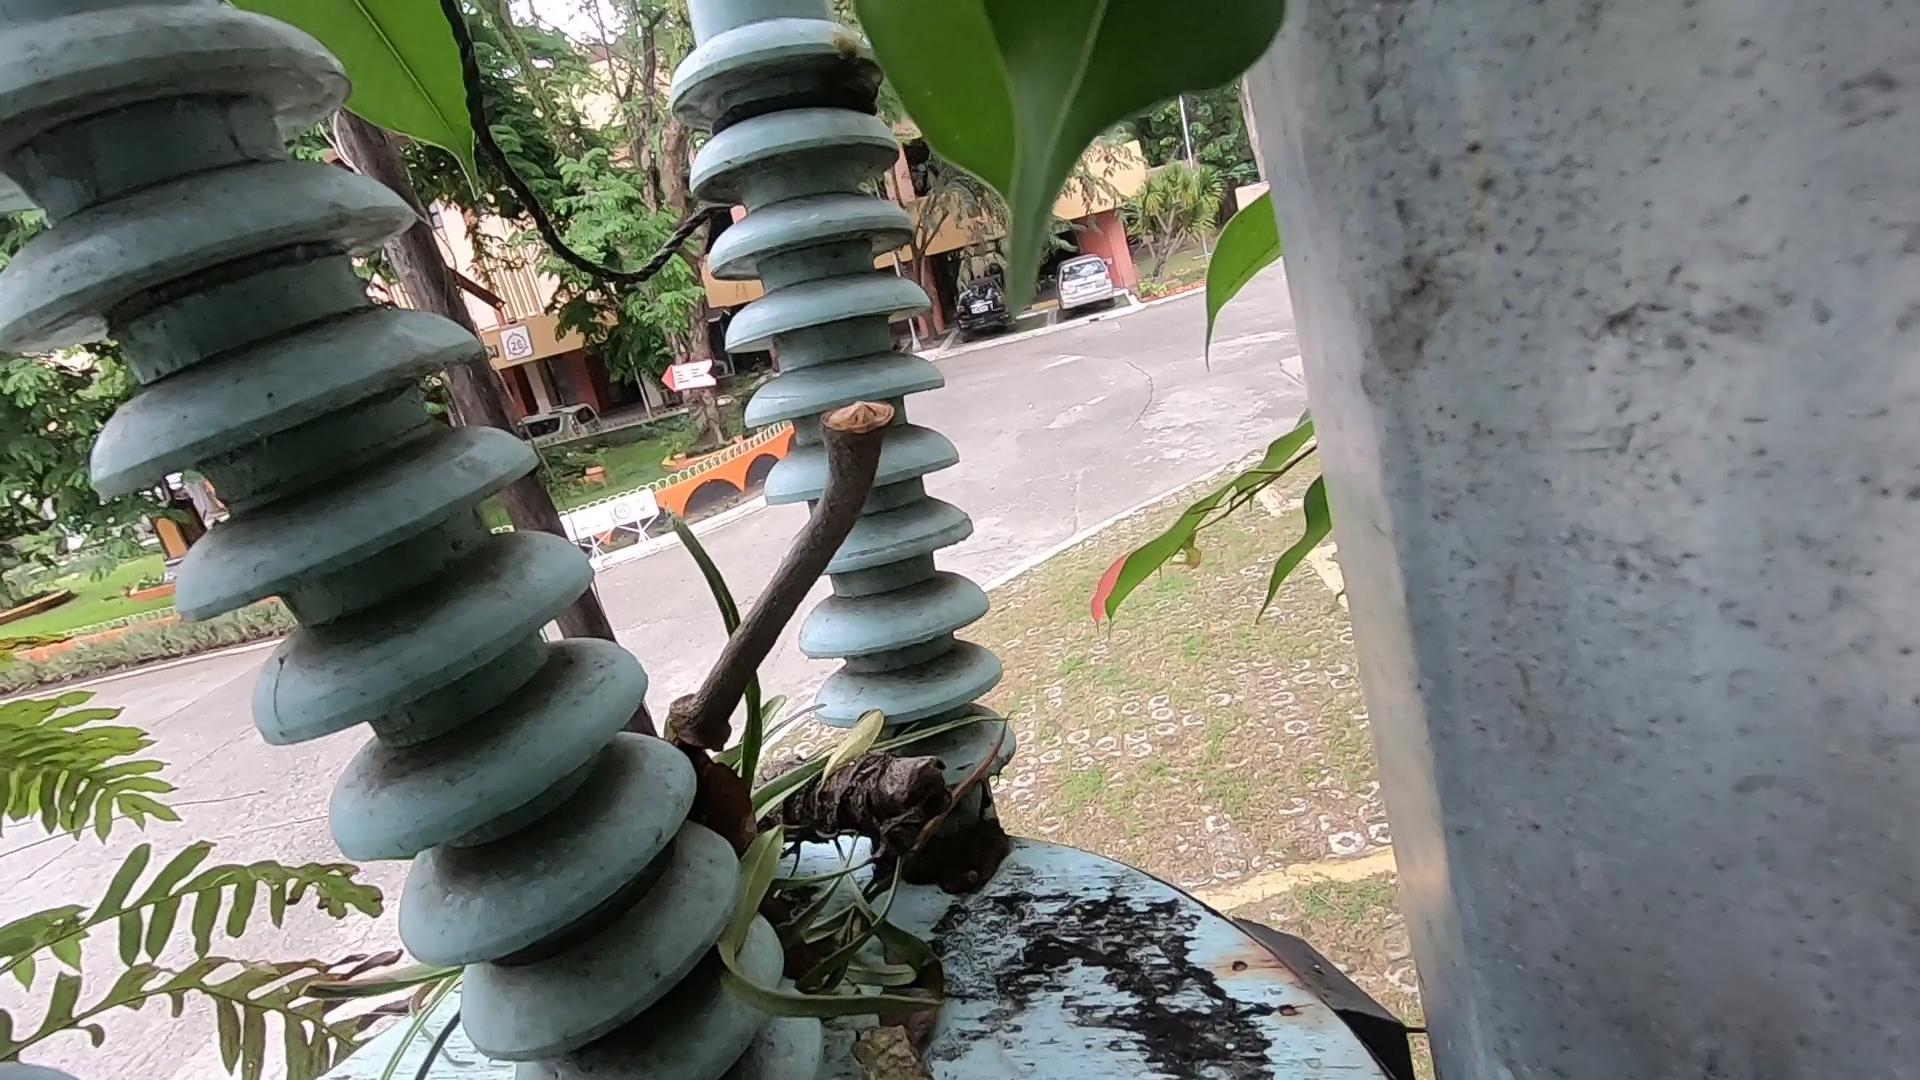branch with leaves: (654, 484, 1006, 1051)
tree branch: (752, 361, 913, 796)
